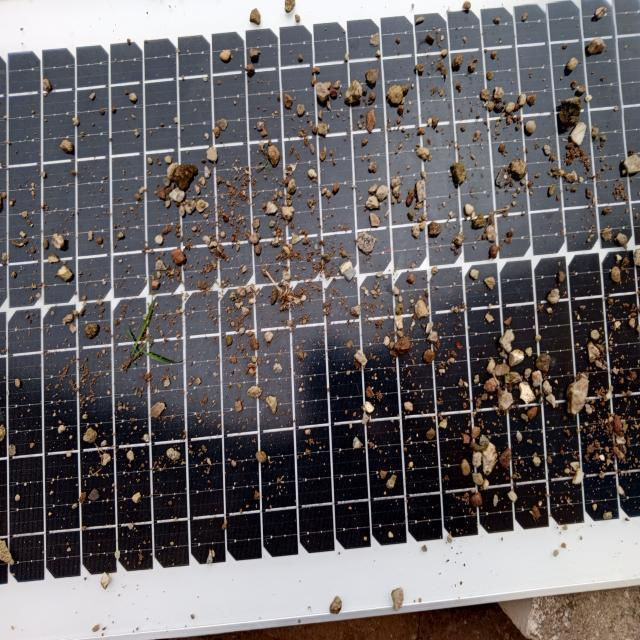Surface Contaminant: (0, 3, 639, 558)
